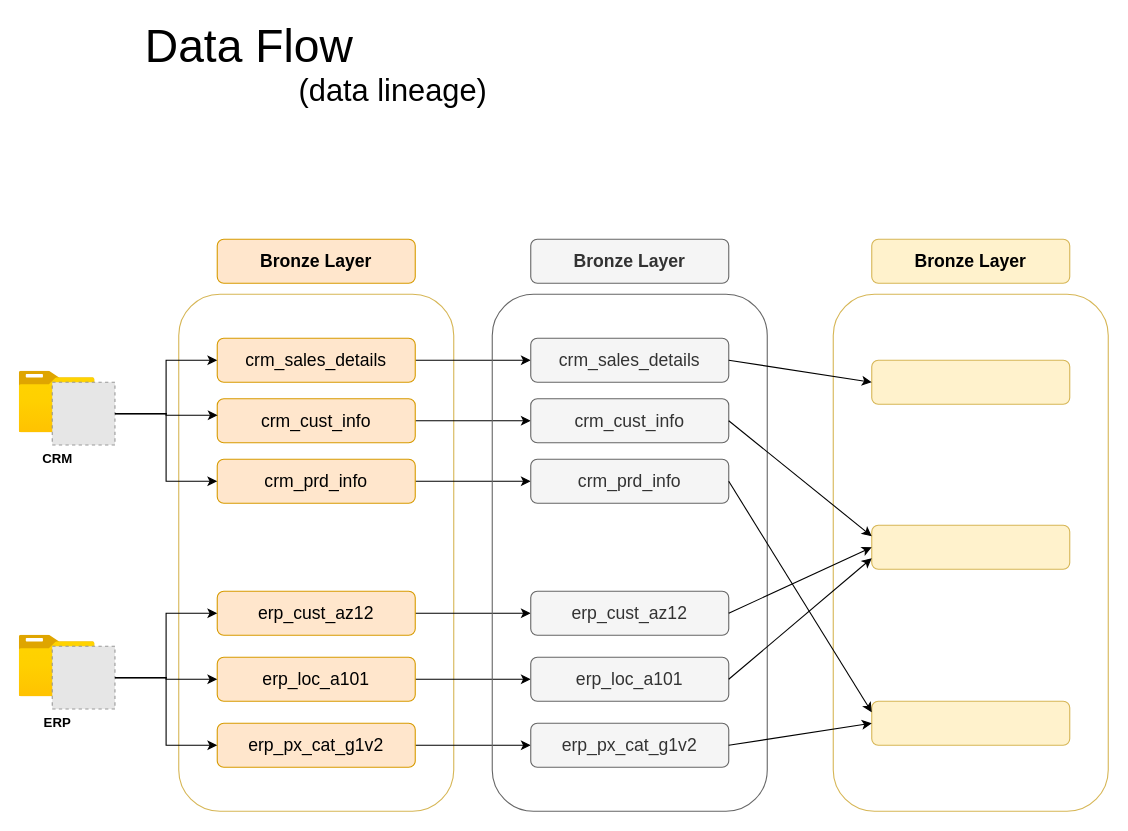
Image size: 1128x831. Some labels were removed from this diagram. Grey dashed boxes stand in for pictures. Each missing label, with the centre of its shape:
dim_customer: the point at 970,546
dim_product: the point at 970,722
fact_sales: the point at 970,381
